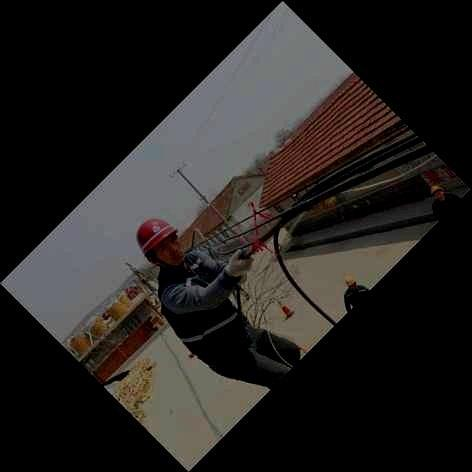helmet: (136, 218, 185, 268), (430, 184, 444, 200), (344, 276, 357, 290)
